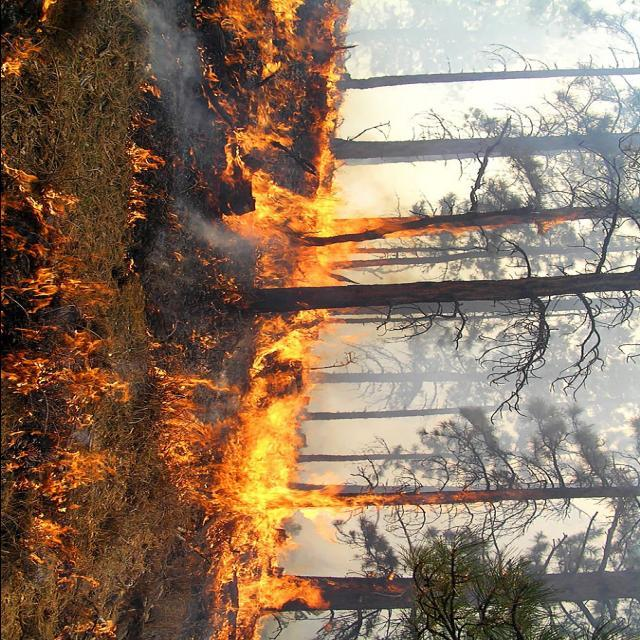Fire: (0, 12, 489, 632)
